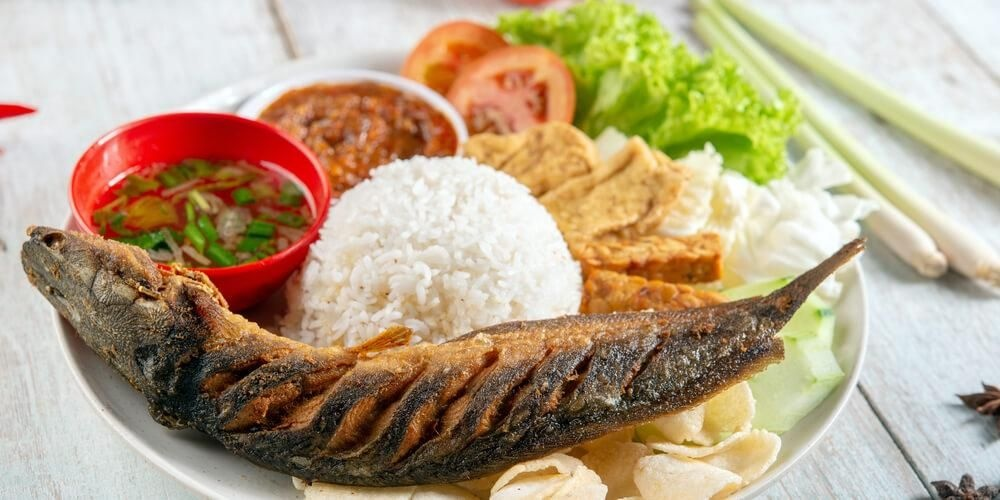pecel_lele: (11, 223, 381, 491)
